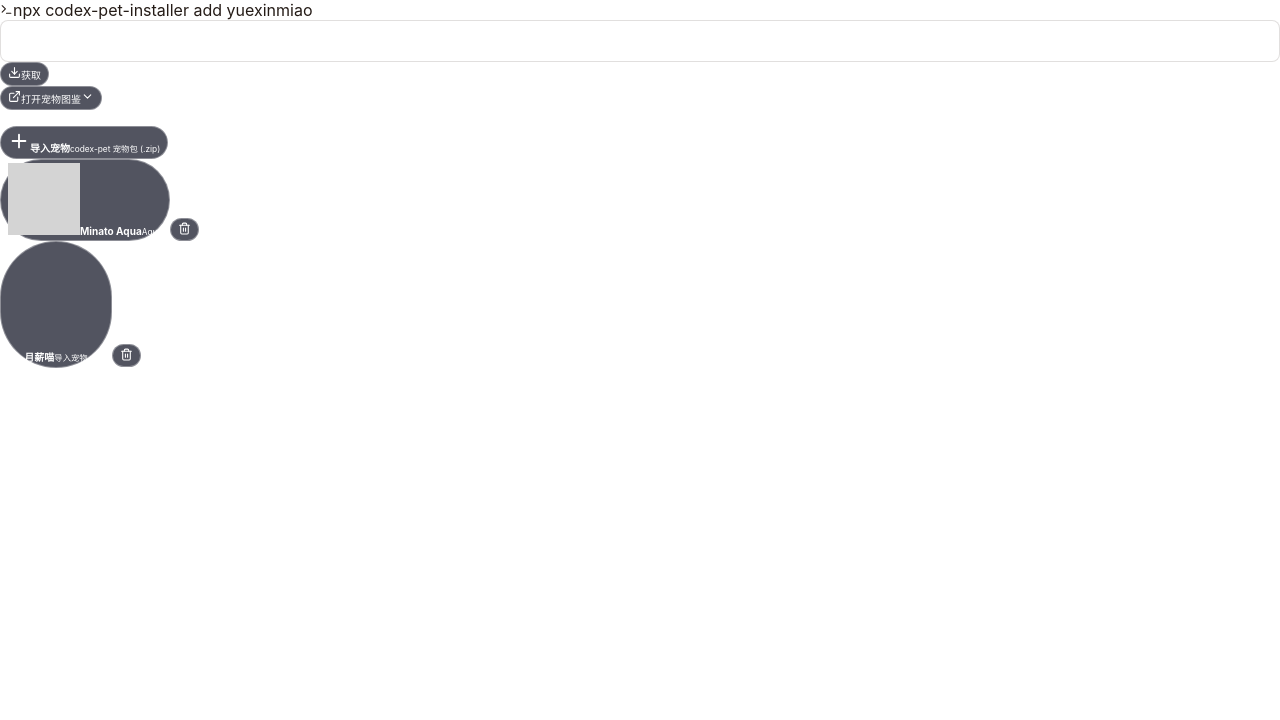
PetThemeGrid import entry › shows a localized install-warning headline with the raw warning as detail (zh)
The image size is (1280, 720).
Click the 1st text "导入宠物".
click(50, 148)  # box [30,142,70,154]
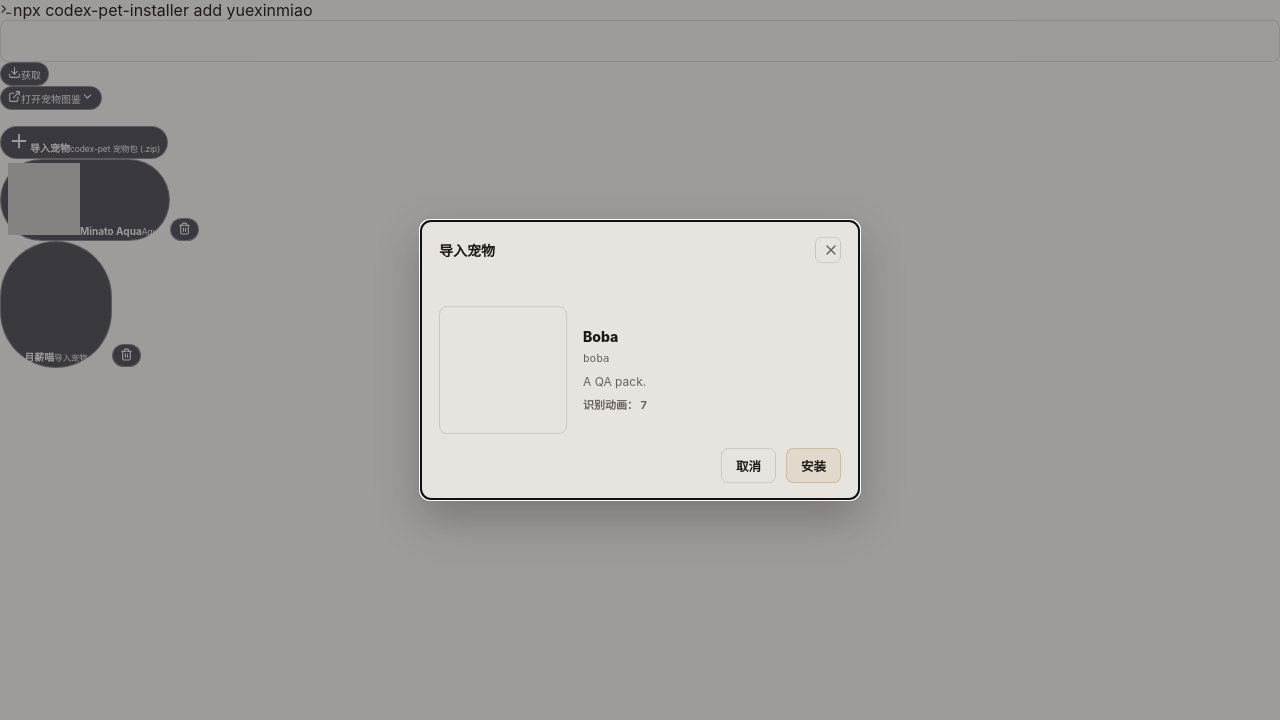
Expected: the button "安装" is enabled
Click the button "安装".
click(814, 466)  # box [786,448,841,483]
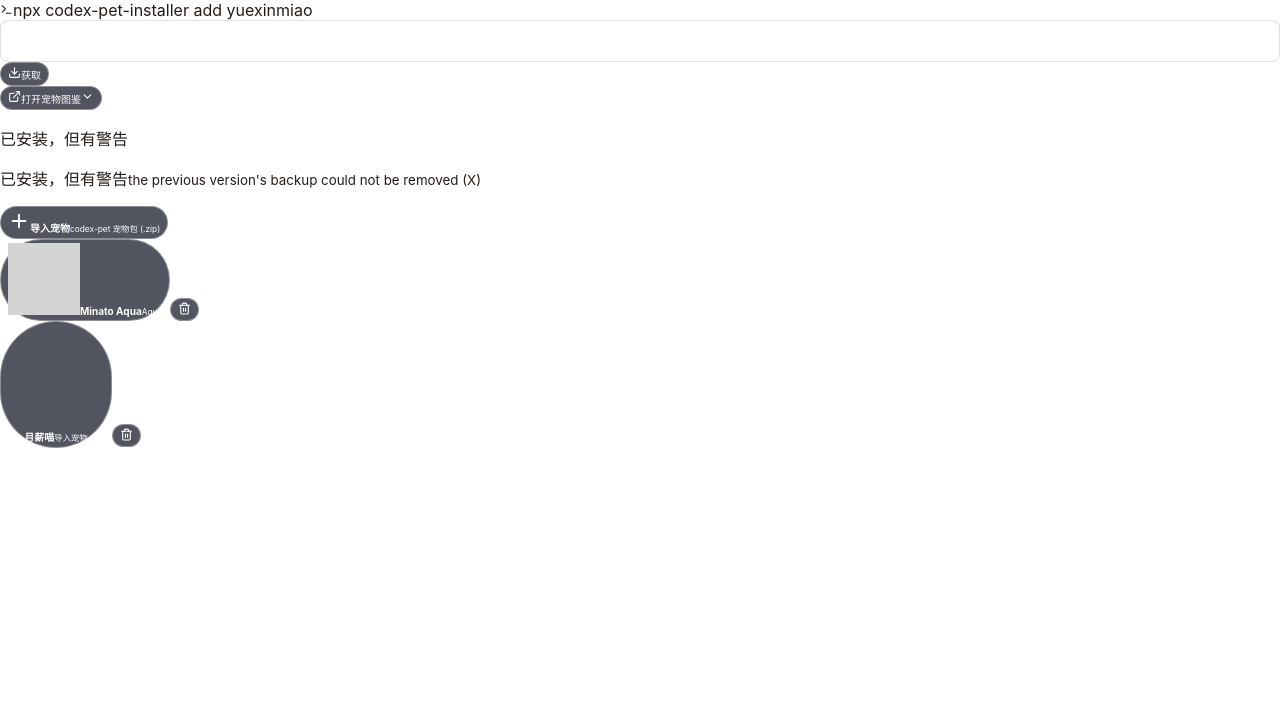
Expected: the element that starts with "已安装，但有警告" is shown, [0,169,128,189]
Expected: the text "the previous version's backup could not be removed (X)" is shown, [128,172,481,188]
